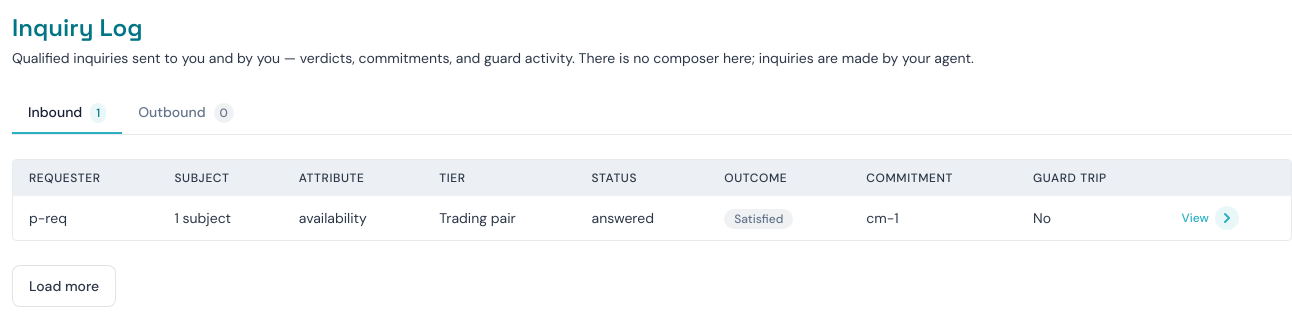
Test: InquiriesClient › shows no Load more button on the outbound tab when its next cursor is null
Click the tab "Outbound0": (186, 113) [122,92,250,134]
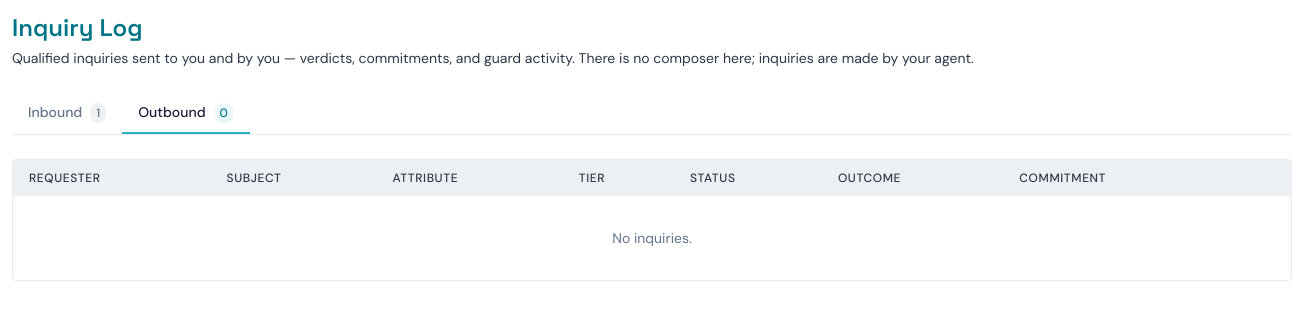
expect the button "Load more" is gone: met
